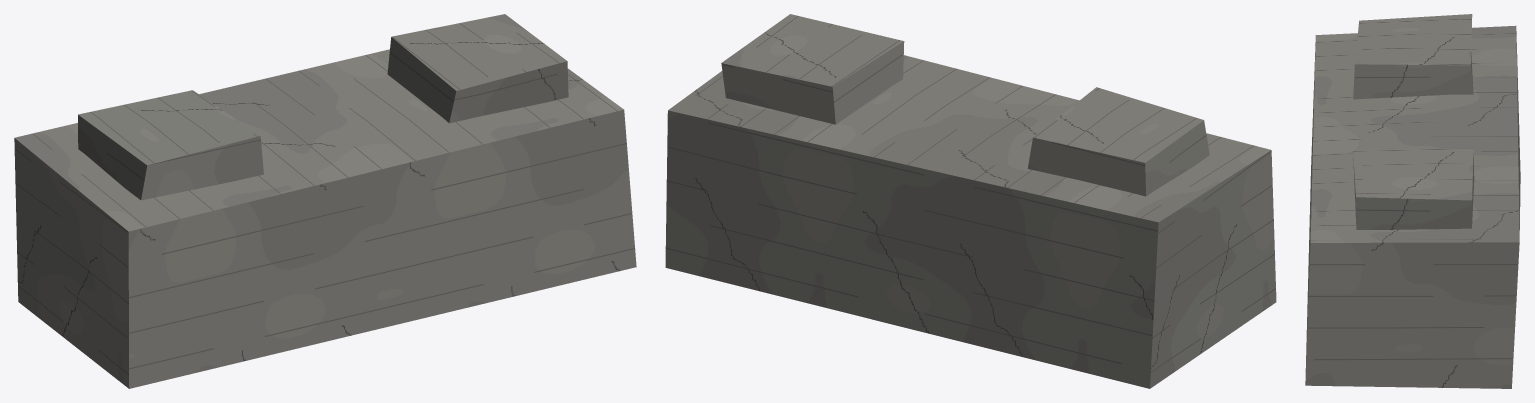
Rendered from pipe_footing_v1.fbx.
3 renders of one model, left to right at view 1: azimuth 30°, elevation 25°; view 2: azimuth 150°, elevation 25°; view 3: azimuth 270°, elevation 25°, orthographic. The views are drawn at different scales.
Parts seen in each view (by area): view 1: pipe_footing_v1_lod0; view 2: pipe_footing_v1_lod0; view 3: pipe_footing_v1_lod0.
Part boxes in pixels (x1,y1,x2,y2): pipe_footing_v1_lod0: (14, 14, 636, 388); pipe_footing_v1_lod0: (665, 14, 1276, 388); pipe_footing_v1_lod0: (1305, 14, 1520, 388).
Size of what is drawn, in the model's own units: 377 by 144 by 158.
